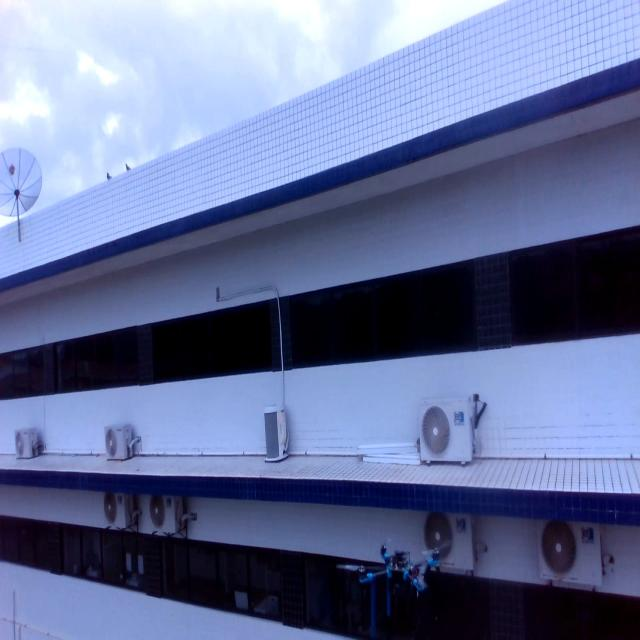-uav-: (334, 529, 456, 640)
